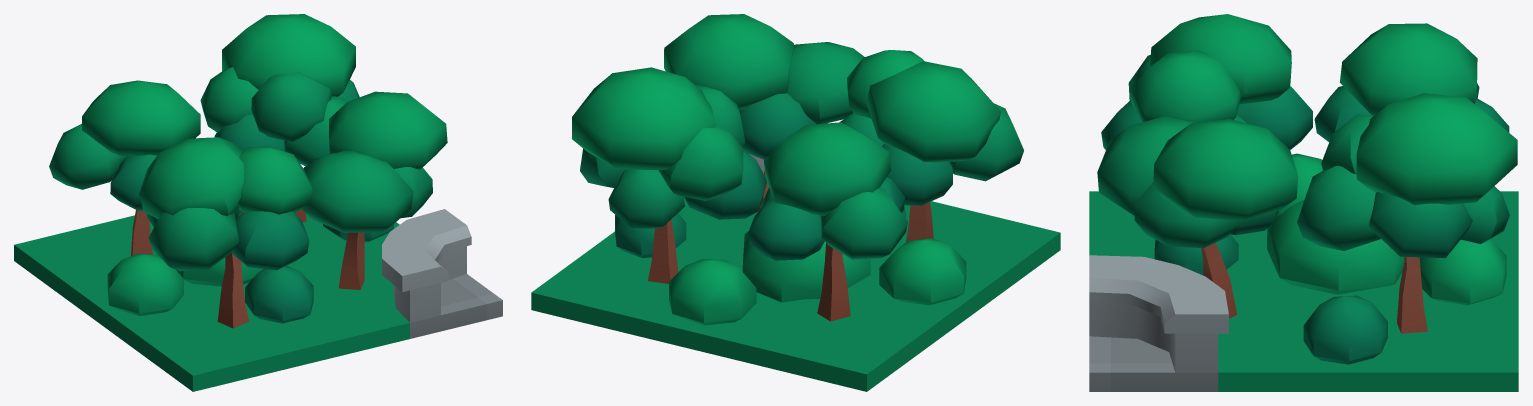
The model's file is park_wall_innerCorner_decorated.glb.
3 views of the same model, side by side, from view 1: azimuth 30°, elevation 25°; view 2: azimuth 150°, elevation 25°; view 3: azimuth 270°, elevation 25° (orthographic). The views are drawn at different scales.
Parts seen in each view (by area): view 1: park_wall_innerCorner_decorated; view 2: park_wall_innerCorner_decorated; view 3: park_wall_innerCorner_decorated.
Boxes of the visible parts, bbox=[...] form: park_wall_innerCorner_decorated: bbox=[14, 14, 502, 391]; park_wall_innerCorner_decorated: bbox=[531, 14, 1060, 391]; park_wall_innerCorner_decorated: bbox=[1089, 14, 1518, 391].
Size of the model in its own units: 2 by 1.28 by 2.
1 material, 1 textured.
